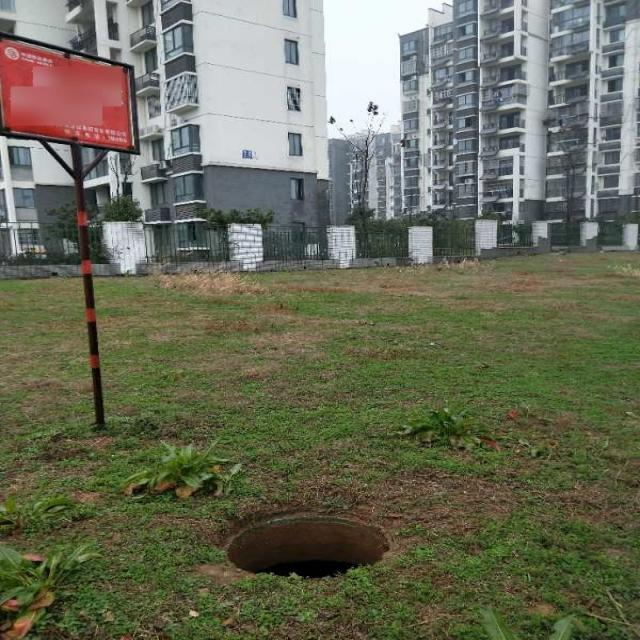Faulty: (222, 510, 392, 582)
